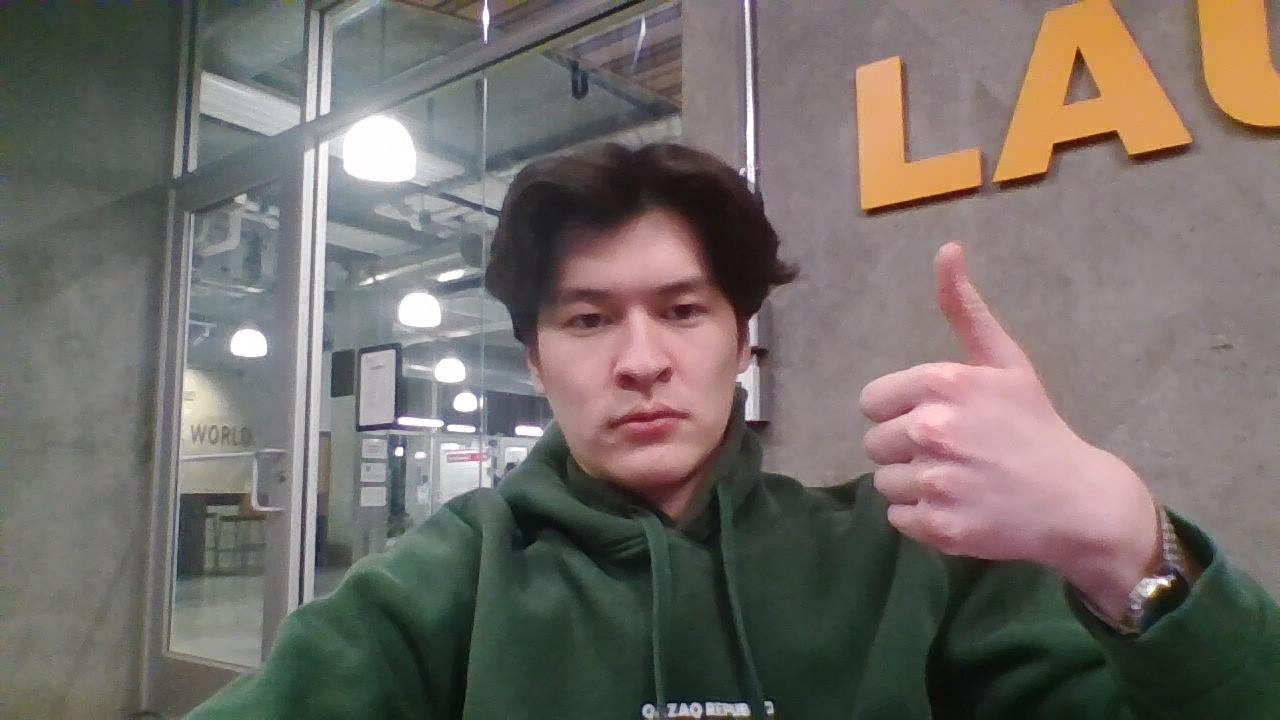thumbsUp: (865, 240, 1070, 561)
